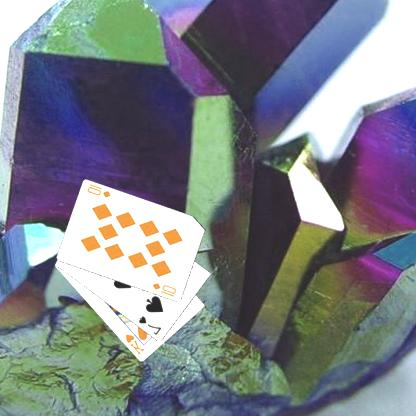10D: (86, 182, 114, 199), (152, 281, 179, 298)
7S: (138, 314, 164, 336)
KH: (124, 331, 148, 356)
